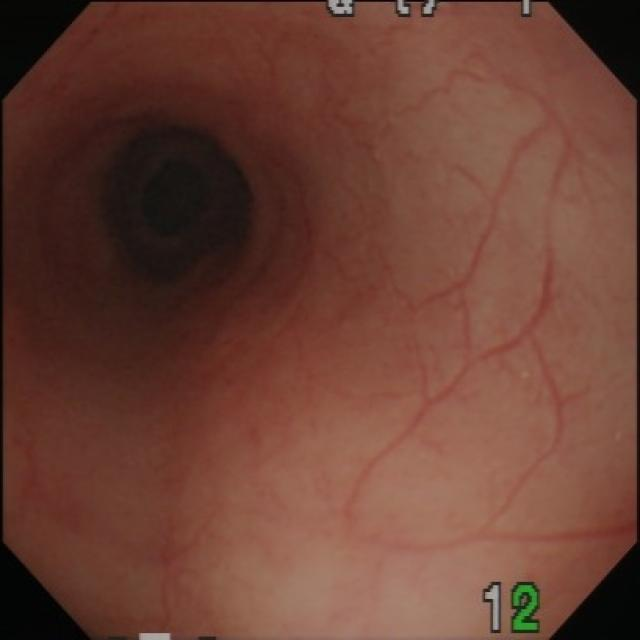E: (104, 117, 258, 292)
S: (483, 581, 544, 636), (324, 3, 543, 18)
